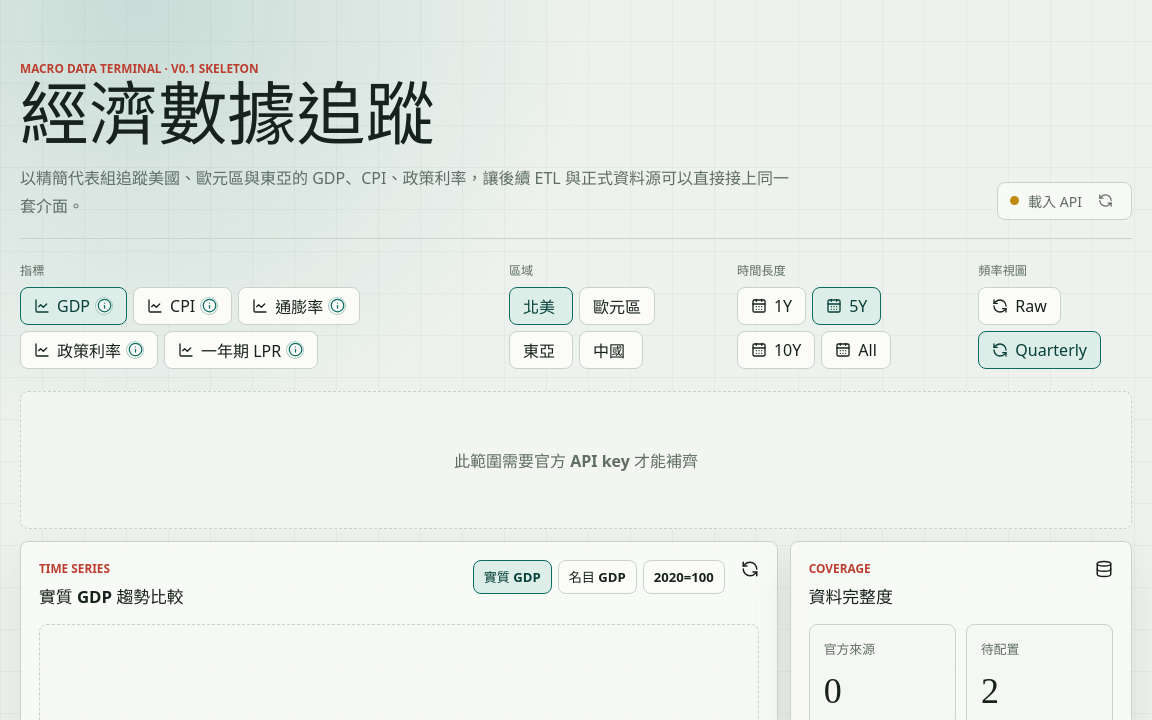
Scenario: App › explains that quarterly policy-rate charts use the last available value
The width and height of the screenshot is (1152, 720).
Step 1. Click the button "政策利率" → (89, 350), box [20,331,158,369]
(page scrolled)
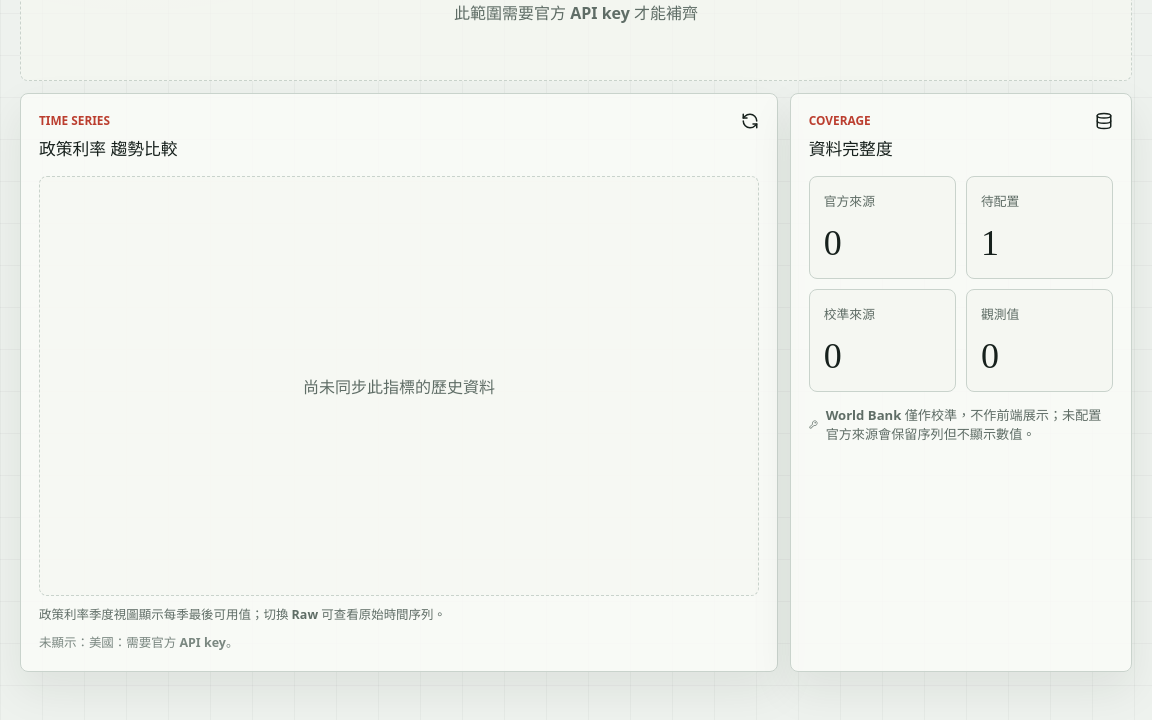
Check: the text "政策利率季度視圖顯示每季最後可用值；切換 Raw 可查看原始時間序列。" is shown, box [39,606,446,623]
